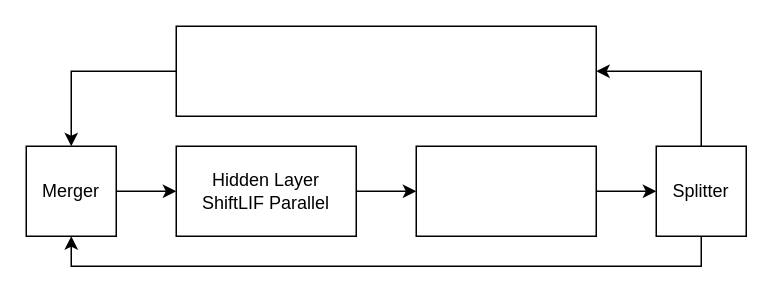
Image size: 773x305. Some labels were removed from this diagram. Each missing label, with the box of its shape:
Output Layer RShiftLIF Parallel: (415, 145, 596, 236)
UART: (175, 25, 596, 116)
